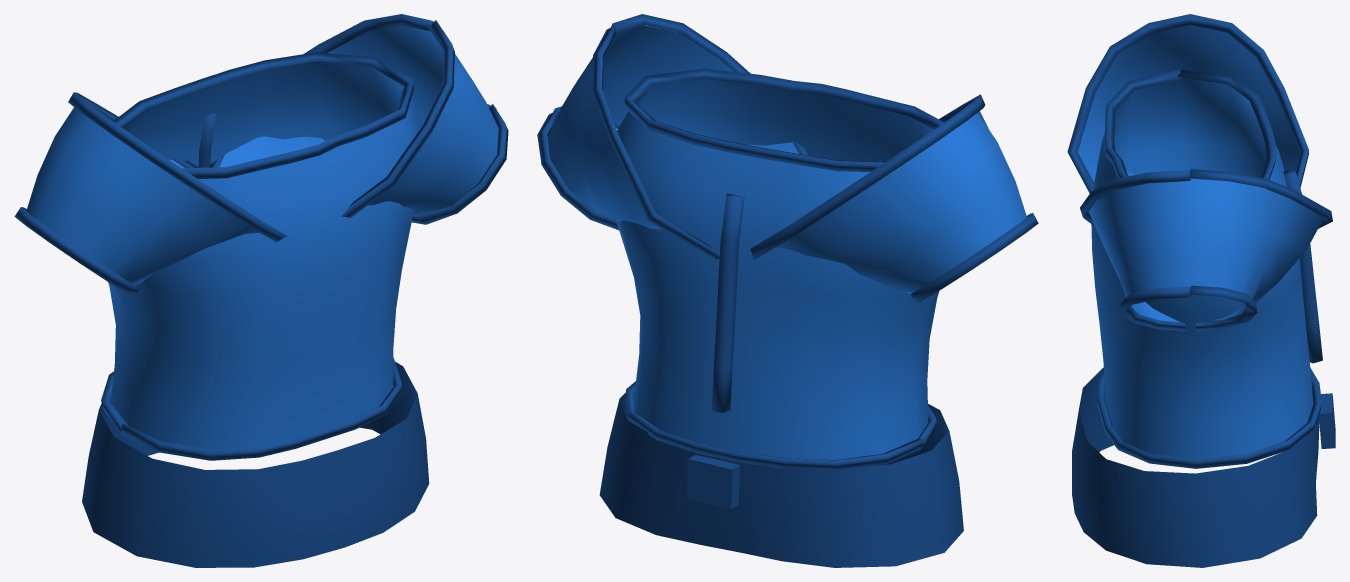
Rendered from cobalt_chainmail.glb.
3 views of the same model, side by side, from view 1: azimuth 30°, elevation 25°; view 2: azimuth 150°, elevation 25°; view 3: azimuth 270°, elevation 25° (orthographic). The views are drawn at different scales.
Parts seen in each view (by area): view 1: cobalt_chainmail_chest; view 2: cobalt_chainmail_chest; view 3: cobalt_chainmail_chest.
Boxes of the visible parts, x1,y1,x2,y2 form: cobalt_chainmail_chest: (14, 14, 508, 567); cobalt_chainmail_chest: (537, 14, 1038, 567); cobalt_chainmail_chest: (1067, 14, 1335, 567).
Size of the model in its own units: 0.6477 by 0.5848 by 0.3444.
